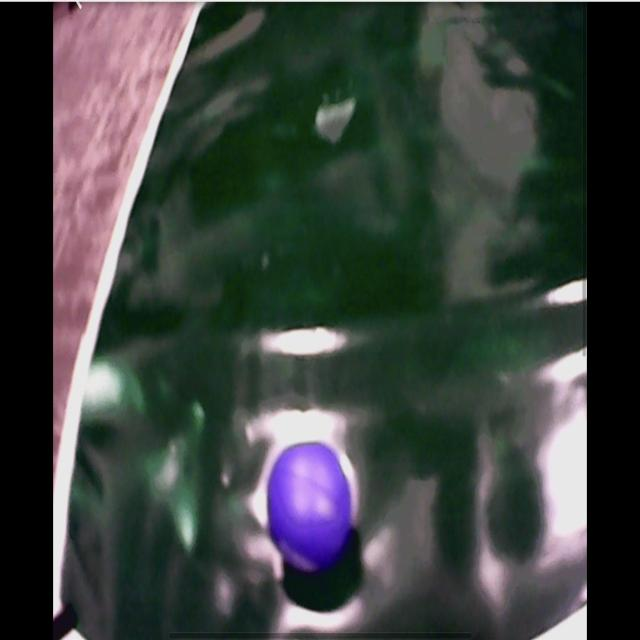ball: (268, 440, 350, 571)
